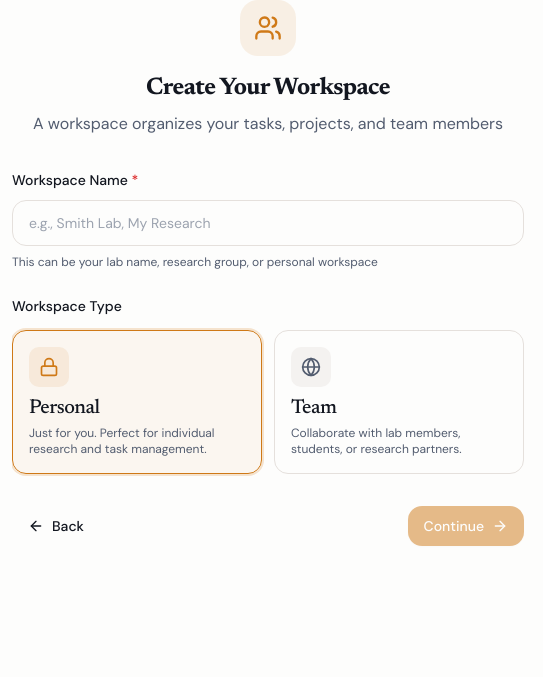
StepWorkspace › shows team workspace info when team is selected
The width and height of the screenshot is (543, 677).
Click the heading "Team" at (314, 408), box [291,398,336,418]
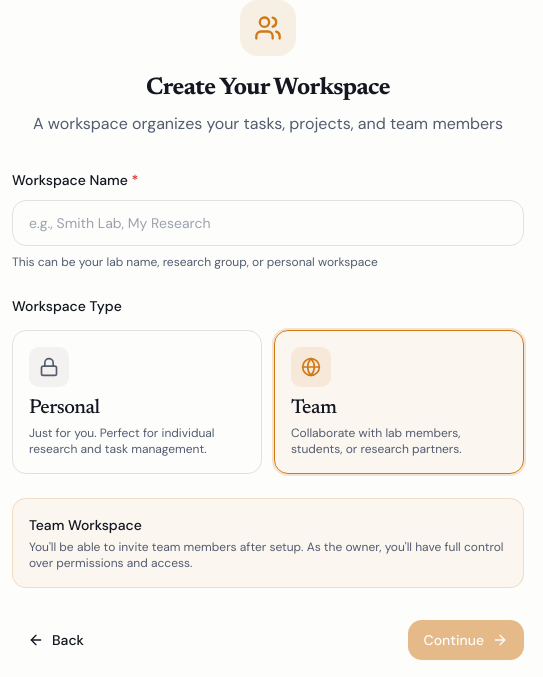
Expected: the text "Team Workspace" is shown, [29,516,142,534]
